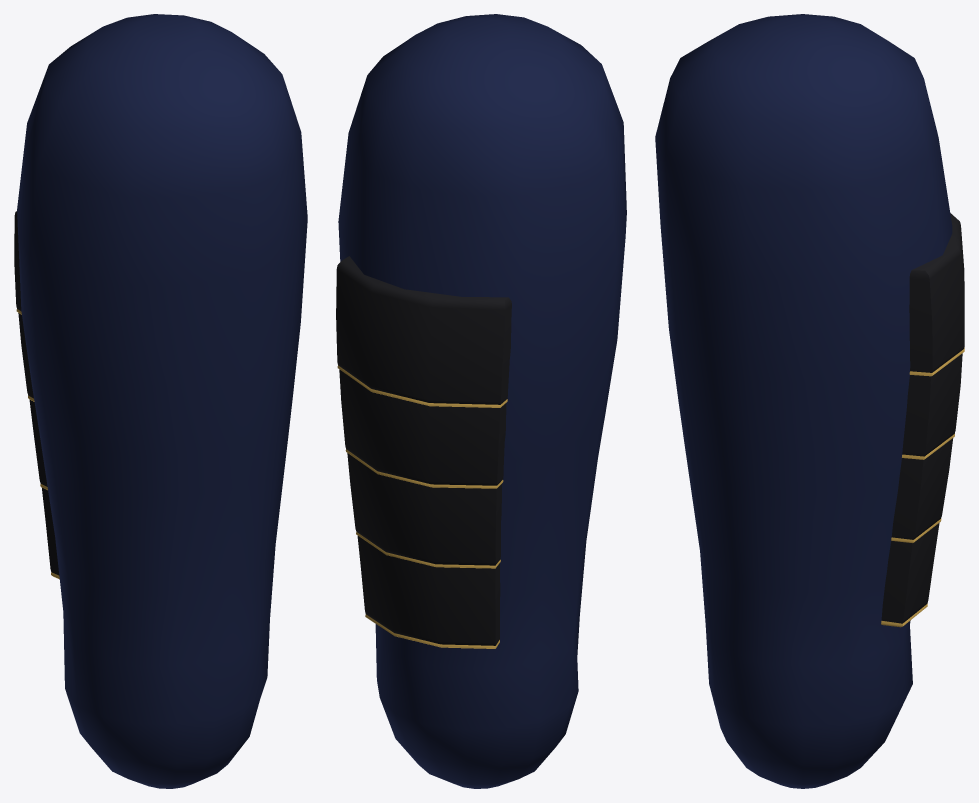
Rendered from thigh_l.glb.
3 renders of one model, left to right at view 1: azimuth 30°, elevation 25°; view 2: azimuth 150°, elevation 25°; view 3: azimuth 270°, elevation 25°, orthographic.
Parts seen in each view (by area): view 1: OUT; view 2: OUT; view 3: OUT.
Part boxes in pixels (<box>): OUT: <box>14,14,307,788</box>; OUT: <box>336,14,626,788</box>; OUT: <box>655,14,964,788</box>.
Size of the model in its own units: 0.1779 by 0.504 by 0.1899.
